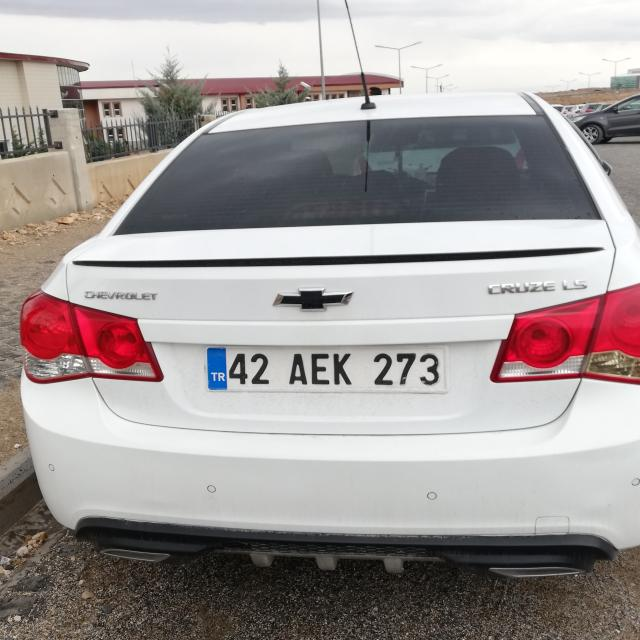license_plate: (206, 348, 448, 392)
